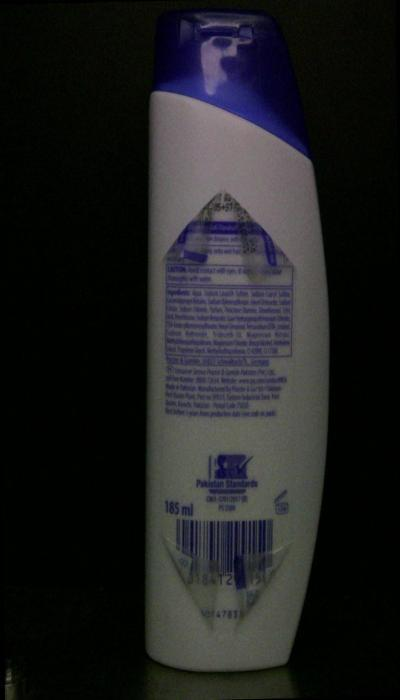adhesion_unacc: (160, 534, 226, 638), (228, 190, 299, 284), (232, 538, 294, 634), (162, 188, 224, 269)
